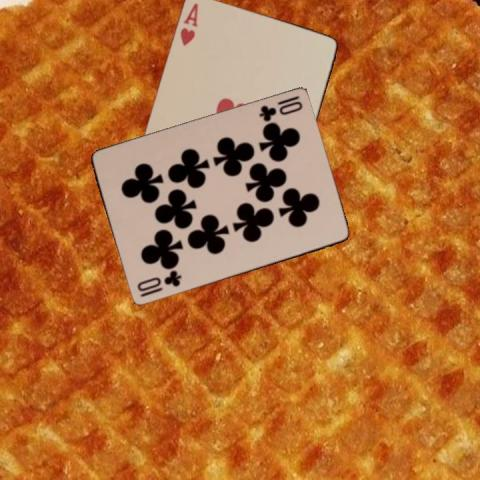10c: (134, 268, 183, 299), (255, 94, 304, 124)
Ah: (177, 0, 199, 47)
